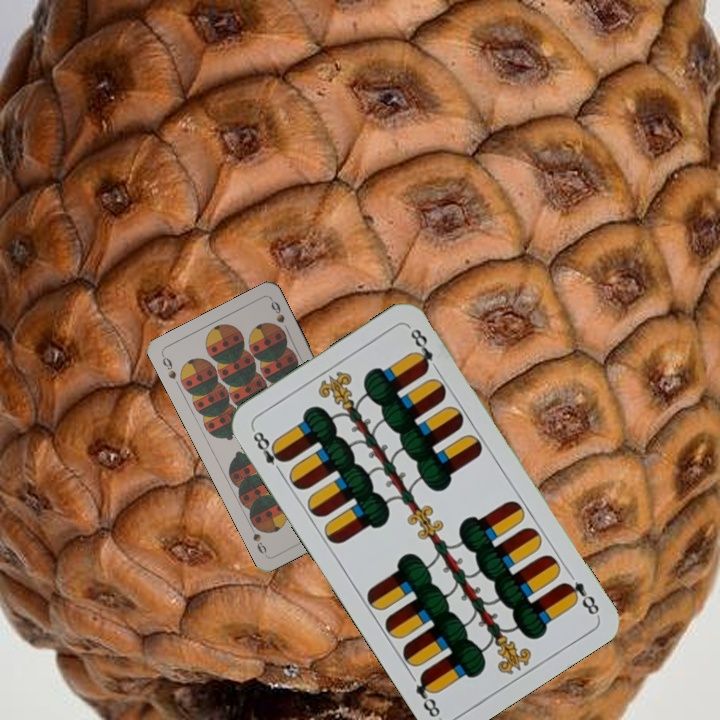E8: (247, 425, 289, 478), (559, 578, 602, 618)
S9: (158, 351, 179, 382)
